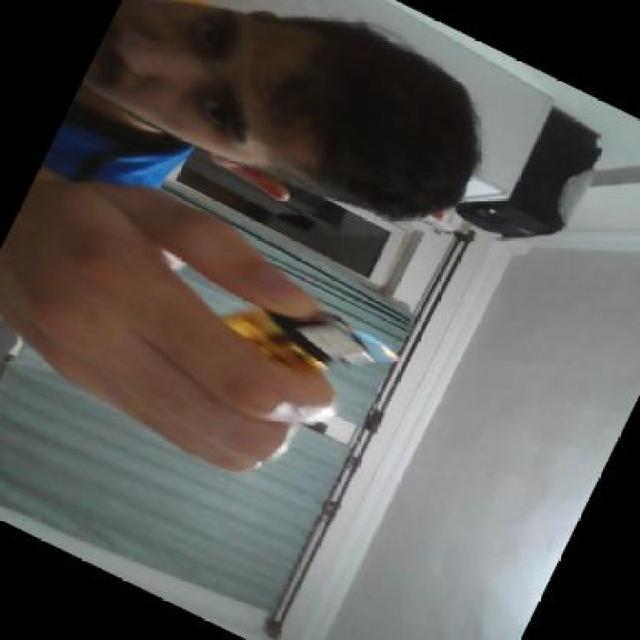Fire: (338, 319, 404, 367)
